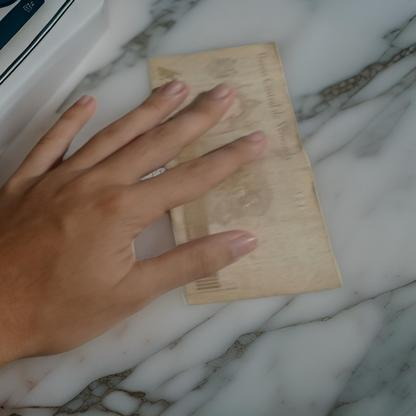five-back-vef: (147, 40, 340, 306)
